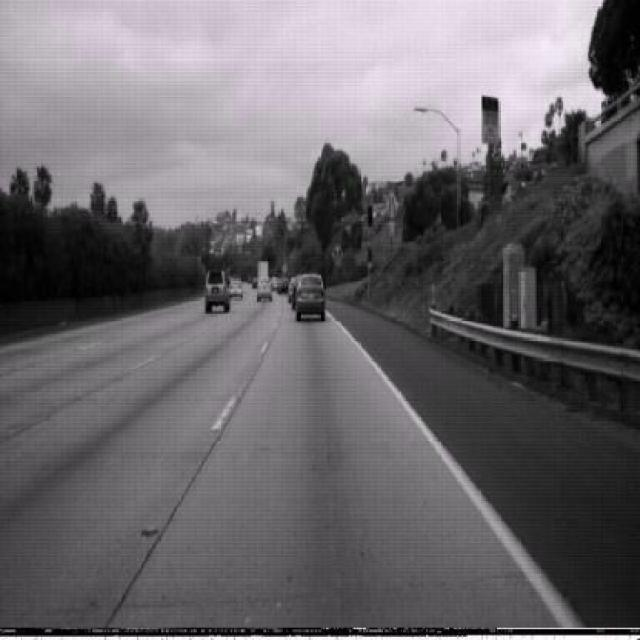addedLane: (330, 240, 344, 268)
laneEnds: (383, 188, 399, 219)
